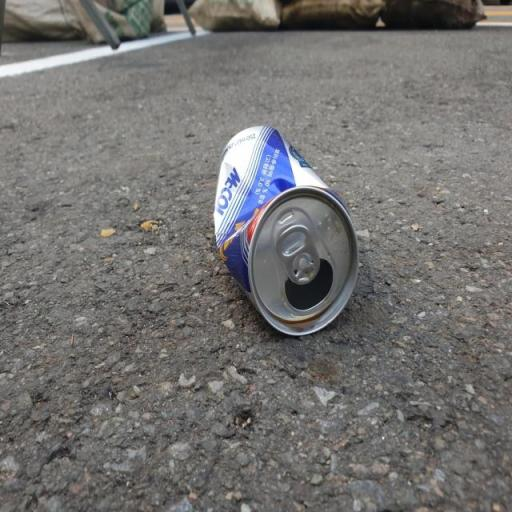metal: (162, 106, 388, 388)
